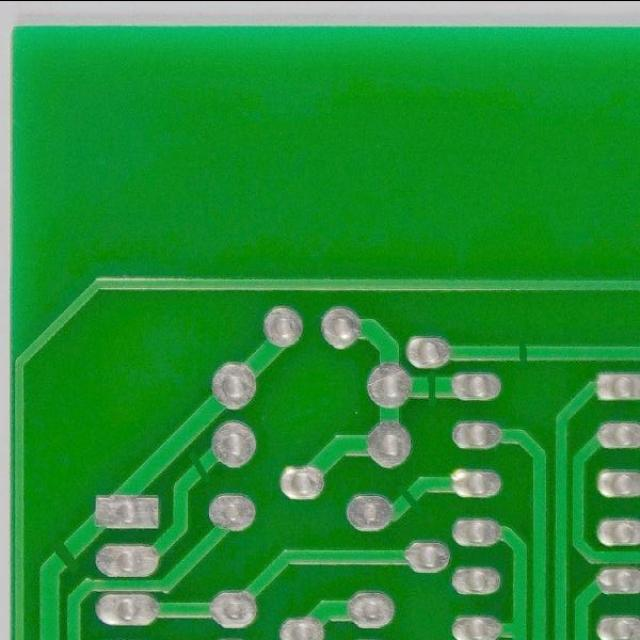Open_Circuit: (45, 532, 86, 577), (418, 362, 448, 412), (508, 330, 540, 371), (182, 446, 216, 484), (394, 480, 426, 514)
